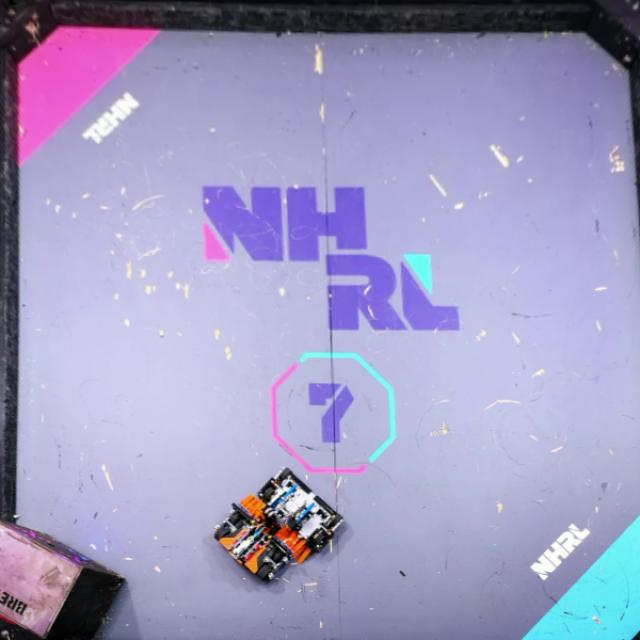housebot: (0, 517, 127, 640)
robot: (257, 466, 344, 566), (213, 495, 307, 583)
